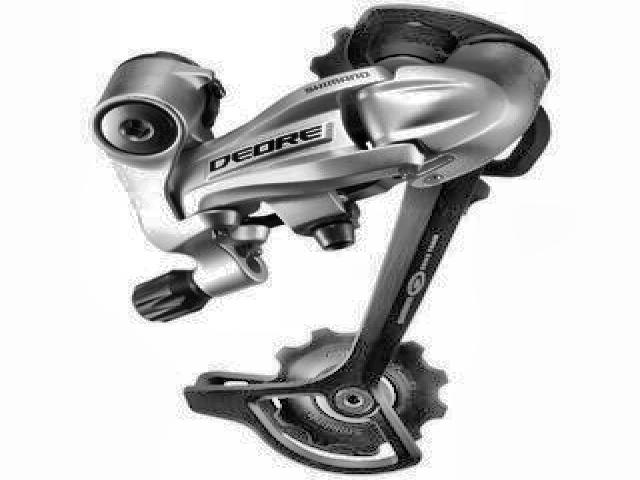rear_derailleur: (91, 4, 559, 477)
